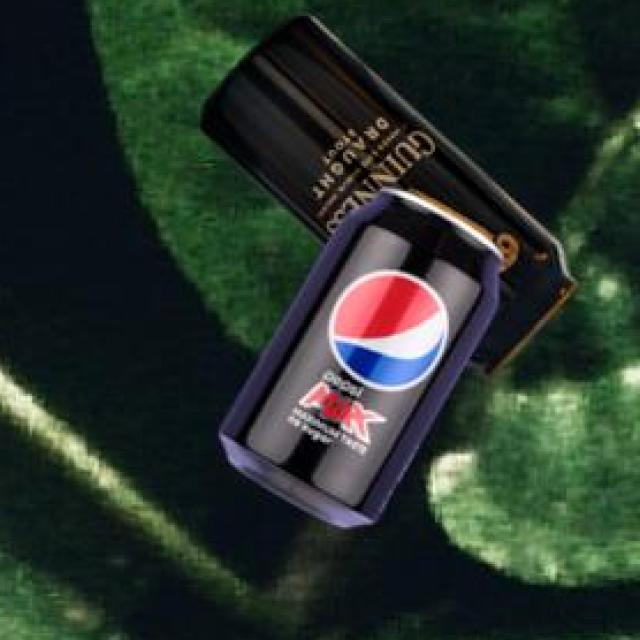logam: (197, 10, 572, 374), (218, 185, 501, 524)
